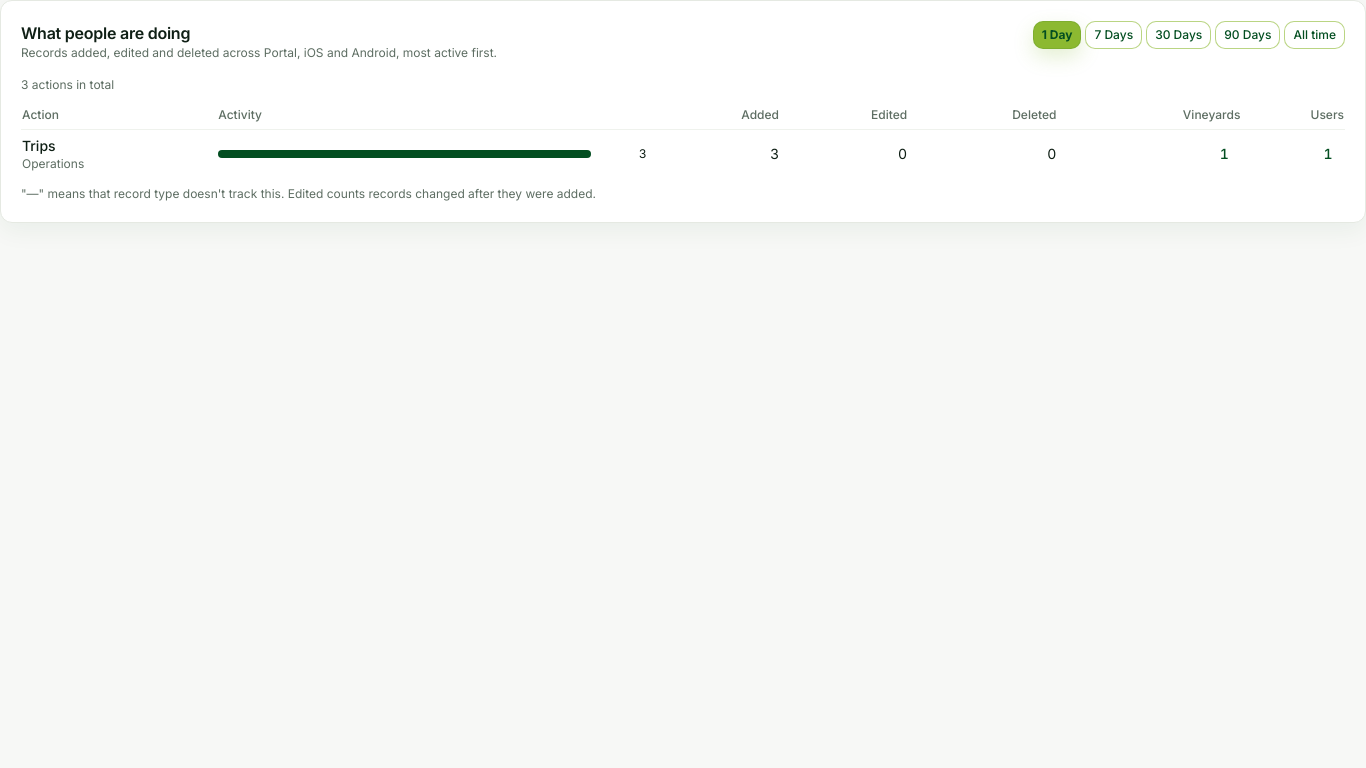
opens each counted participant list and links to its existing admin detail
Step 1. Click the button named "Trips: 1 vineyards" → coordinates (1224, 154), box [1208,144,1240,164]
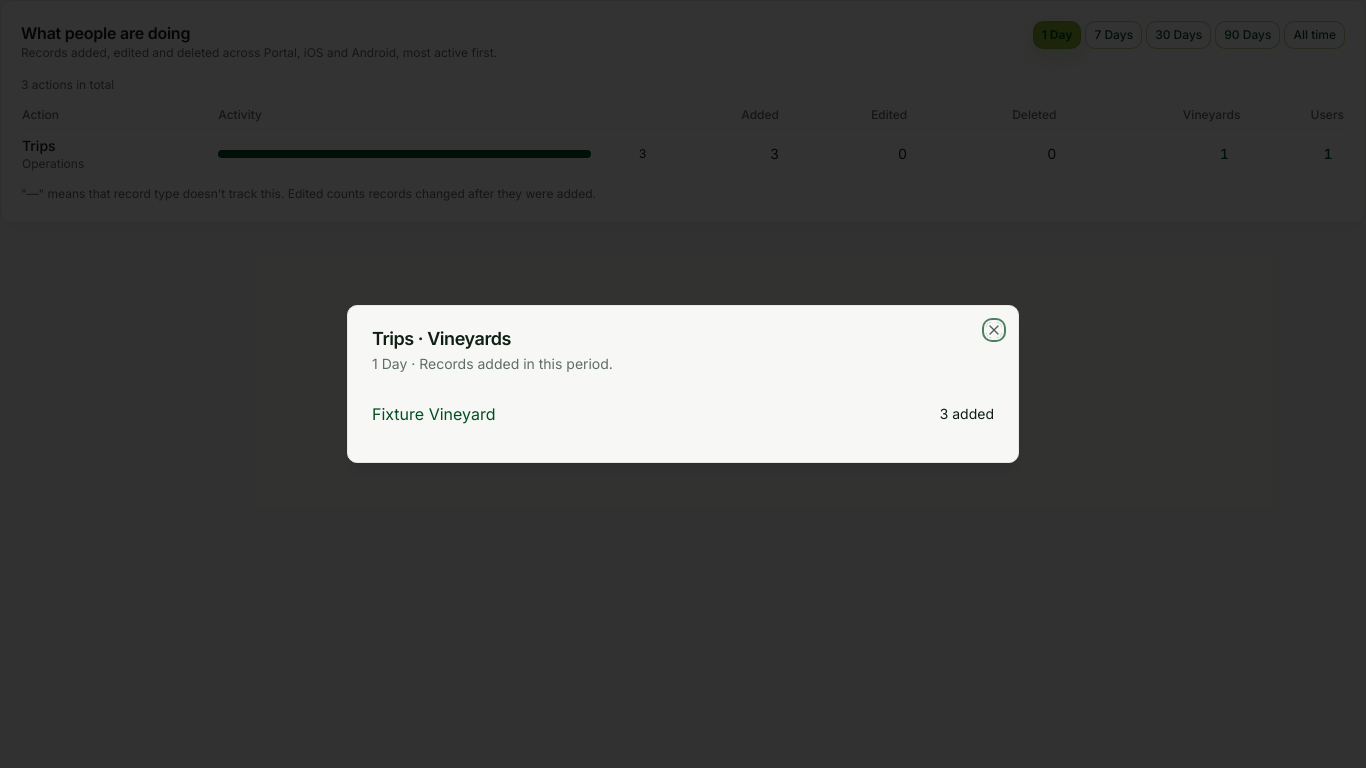
Step 2. Click the button named "Close" → coordinates (994, 330), box [986,322,1002,338]
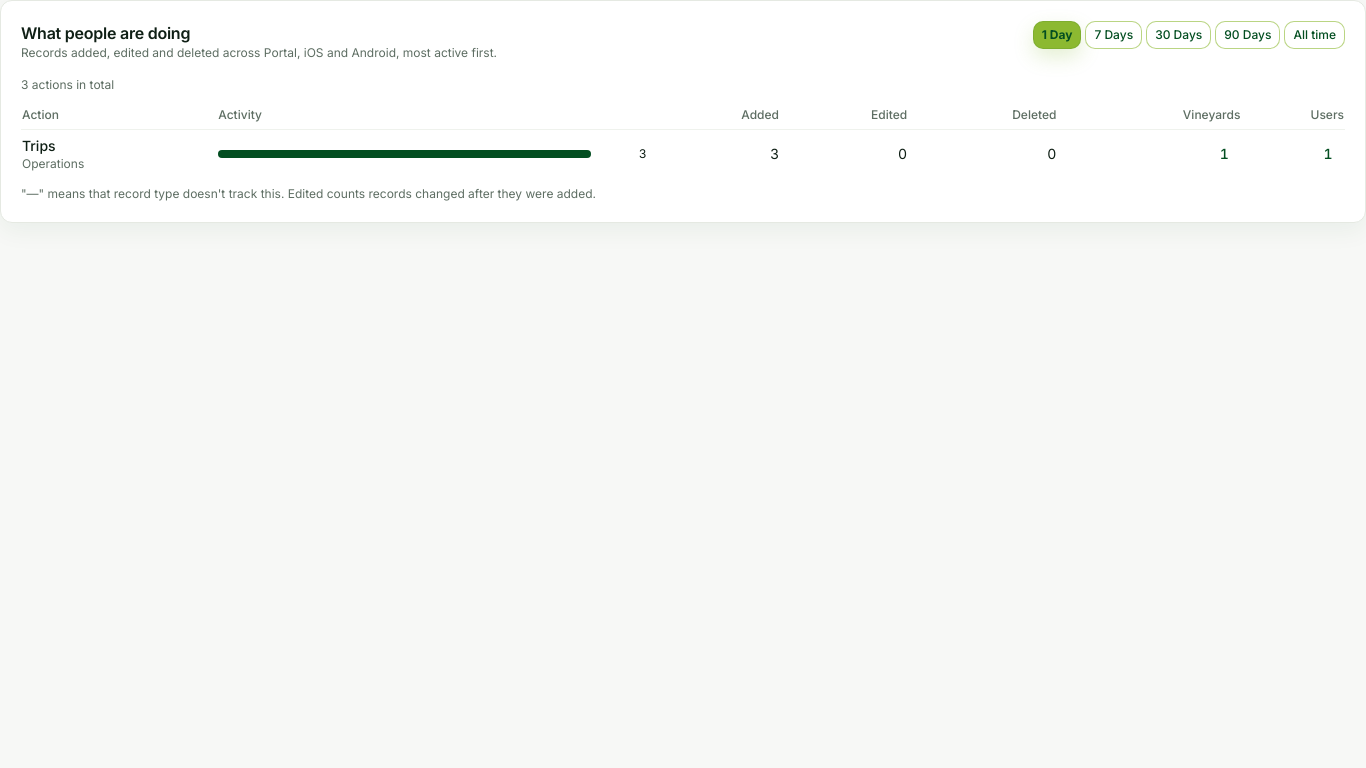
Step 3. Click the button named "Trips: 1 users" → coordinates (1328, 154), box [1312,144,1344,164]
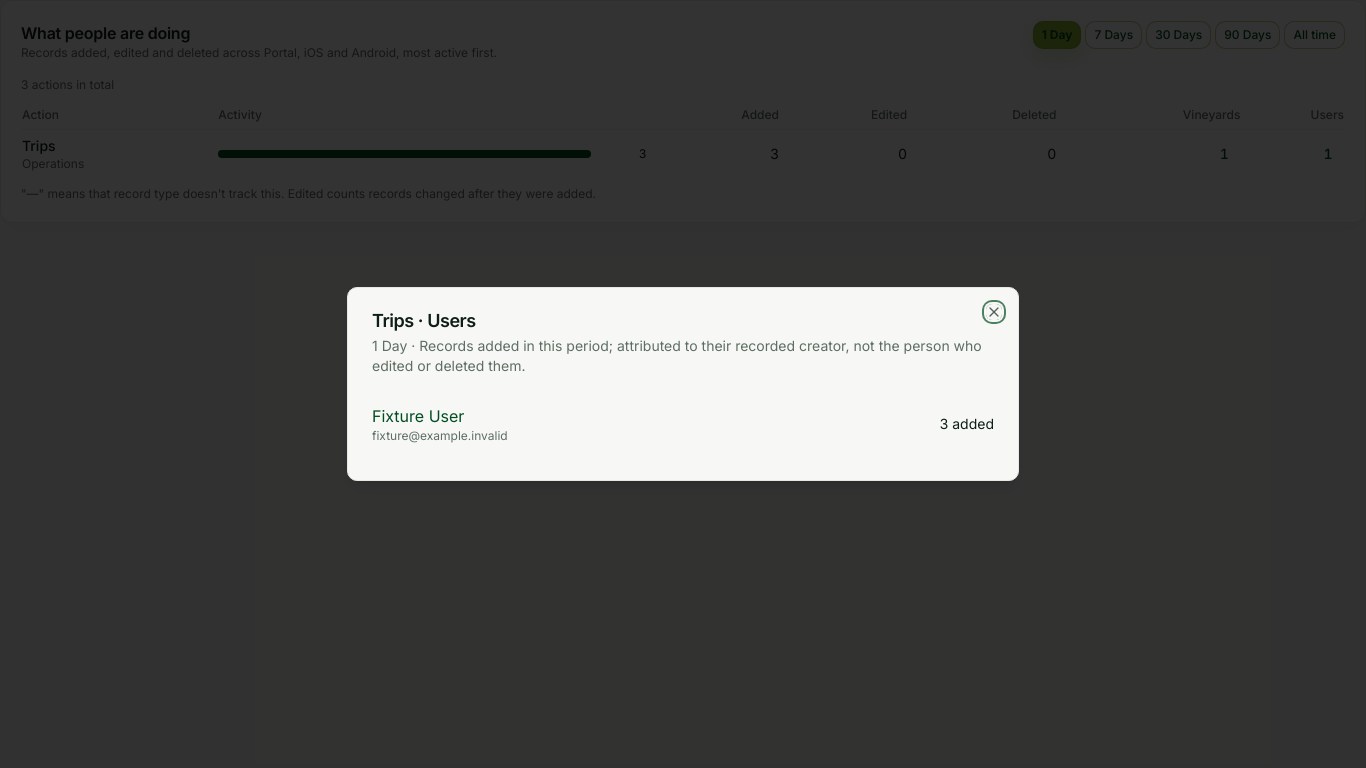
Expected: the link "Fixture User" has attribute href="/admin/users/u", [372,406,464,426]
